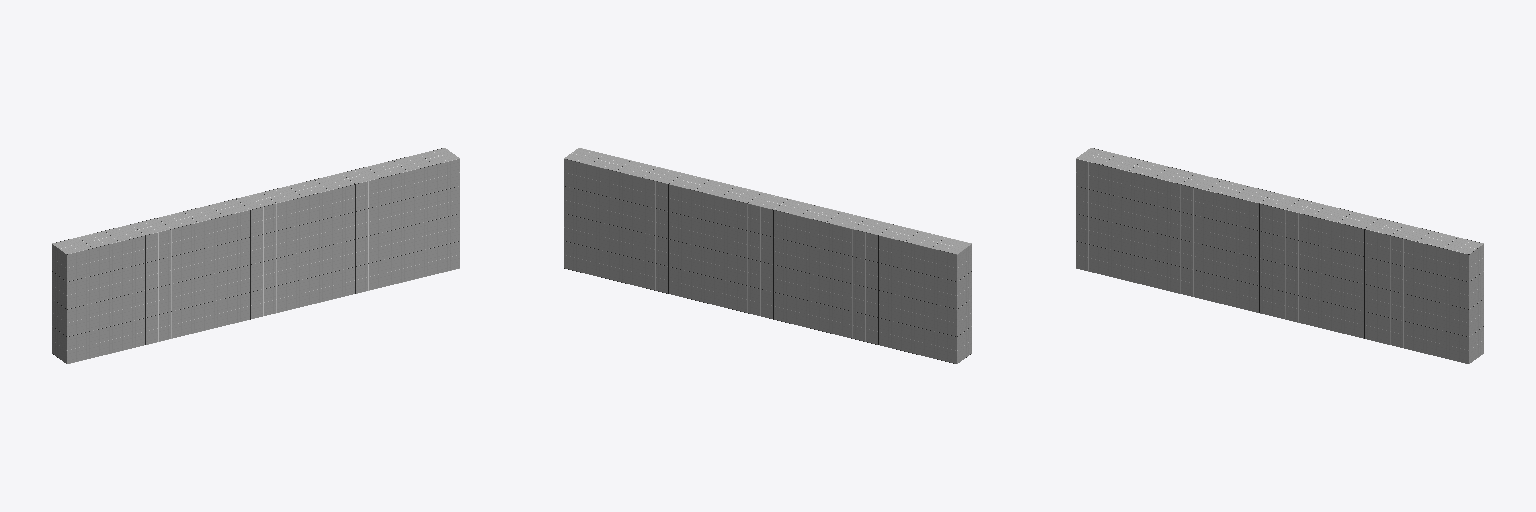
The picture shows the model from 3 angles: view 1: azimuth 30°, elevation 25°; view 2: azimuth 150°, elevation 25°; view 3: azimuth 330°, elevation 25°; orthographic projection.
Visible parts, largest first — view 1: Cube; view 2: Cube; view 3: Cube.
Boxes of the visible parts, x1,y1,x2,y2 form: Cube: [52, 148, 459, 363]; Cube: [564, 148, 971, 363]; Cube: [1076, 148, 1483, 363].
Size of the model in its own units: 60 by 16 by 4.
Materials: 1 (1 with a texture image).